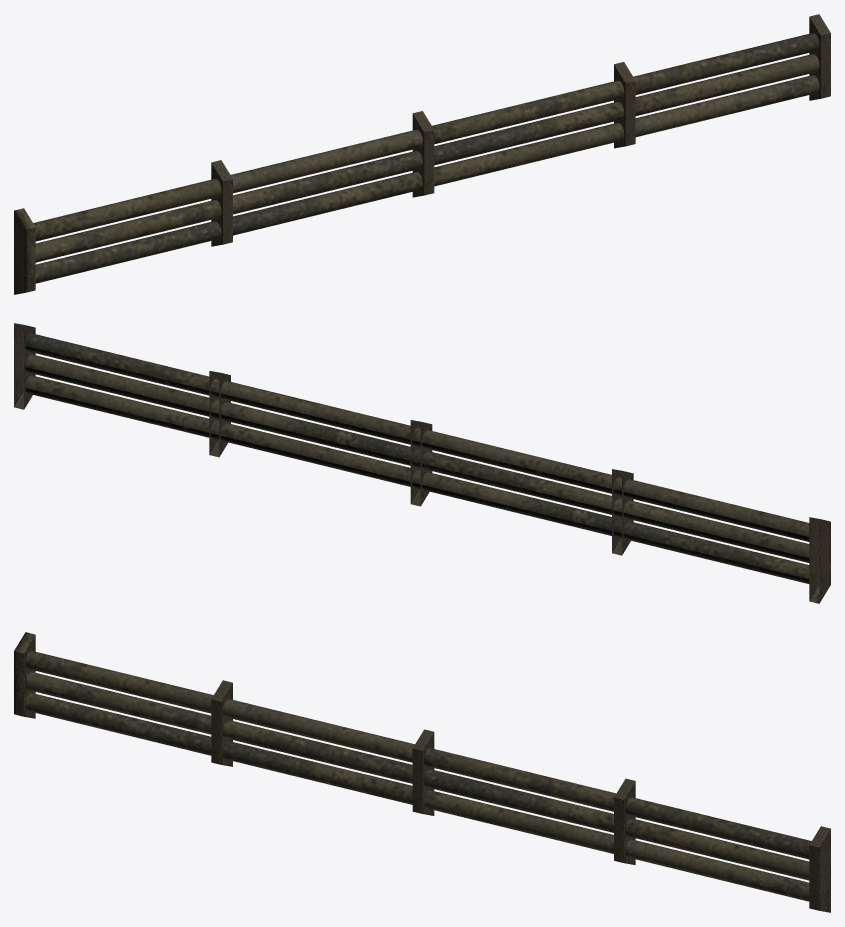
Rendered from pipes_hr_1_horizontal_middle_2.obj.
The picture shows the model from 3 angles, top to bottom: view 1: azimuth 30°, elevation 25°; view 2: azimuth 150°, elevation 25°; view 3: azimuth 330°, elevation 25°; orthographic projection.
Visible parts, largest first — view 1: pipes_hr_1_horizontal_middle_2; view 2: pipes_hr_1_horizontal_middle_2; view 3: pipes_hr_1_horizontal_middle_2.
Part boxes in pixels (<box>): pipes_hr_1_horizontal_middle_2: <box>14,14,830,294</box>; pipes_hr_1_horizontal_middle_2: <box>14,323,830,603</box>; pipes_hr_1_horizontal_middle_2: <box>14,632,830,912</box>.
Bounding box in the file's own units: 4 × 0.4 × 0.1.
